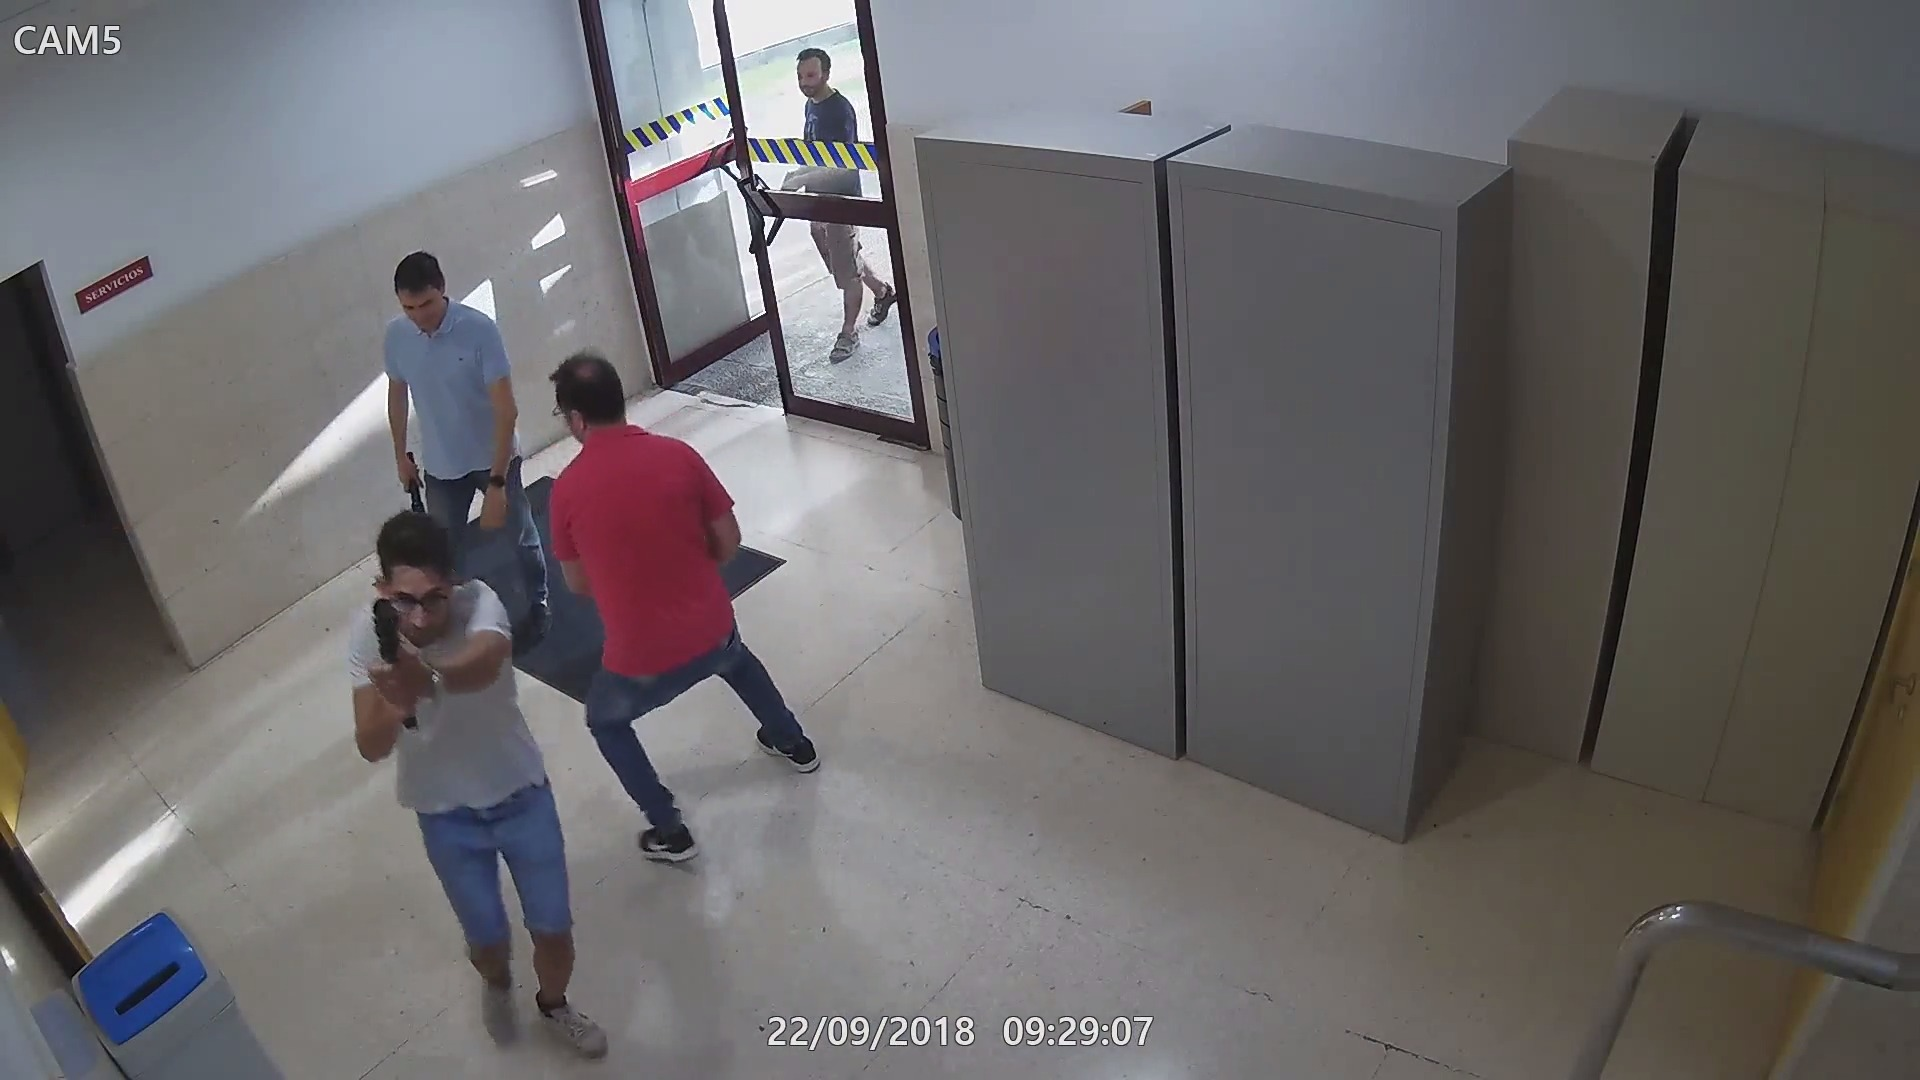Handgun: (777, 166, 795, 190)
Short_rifle: (363, 603, 425, 732)
